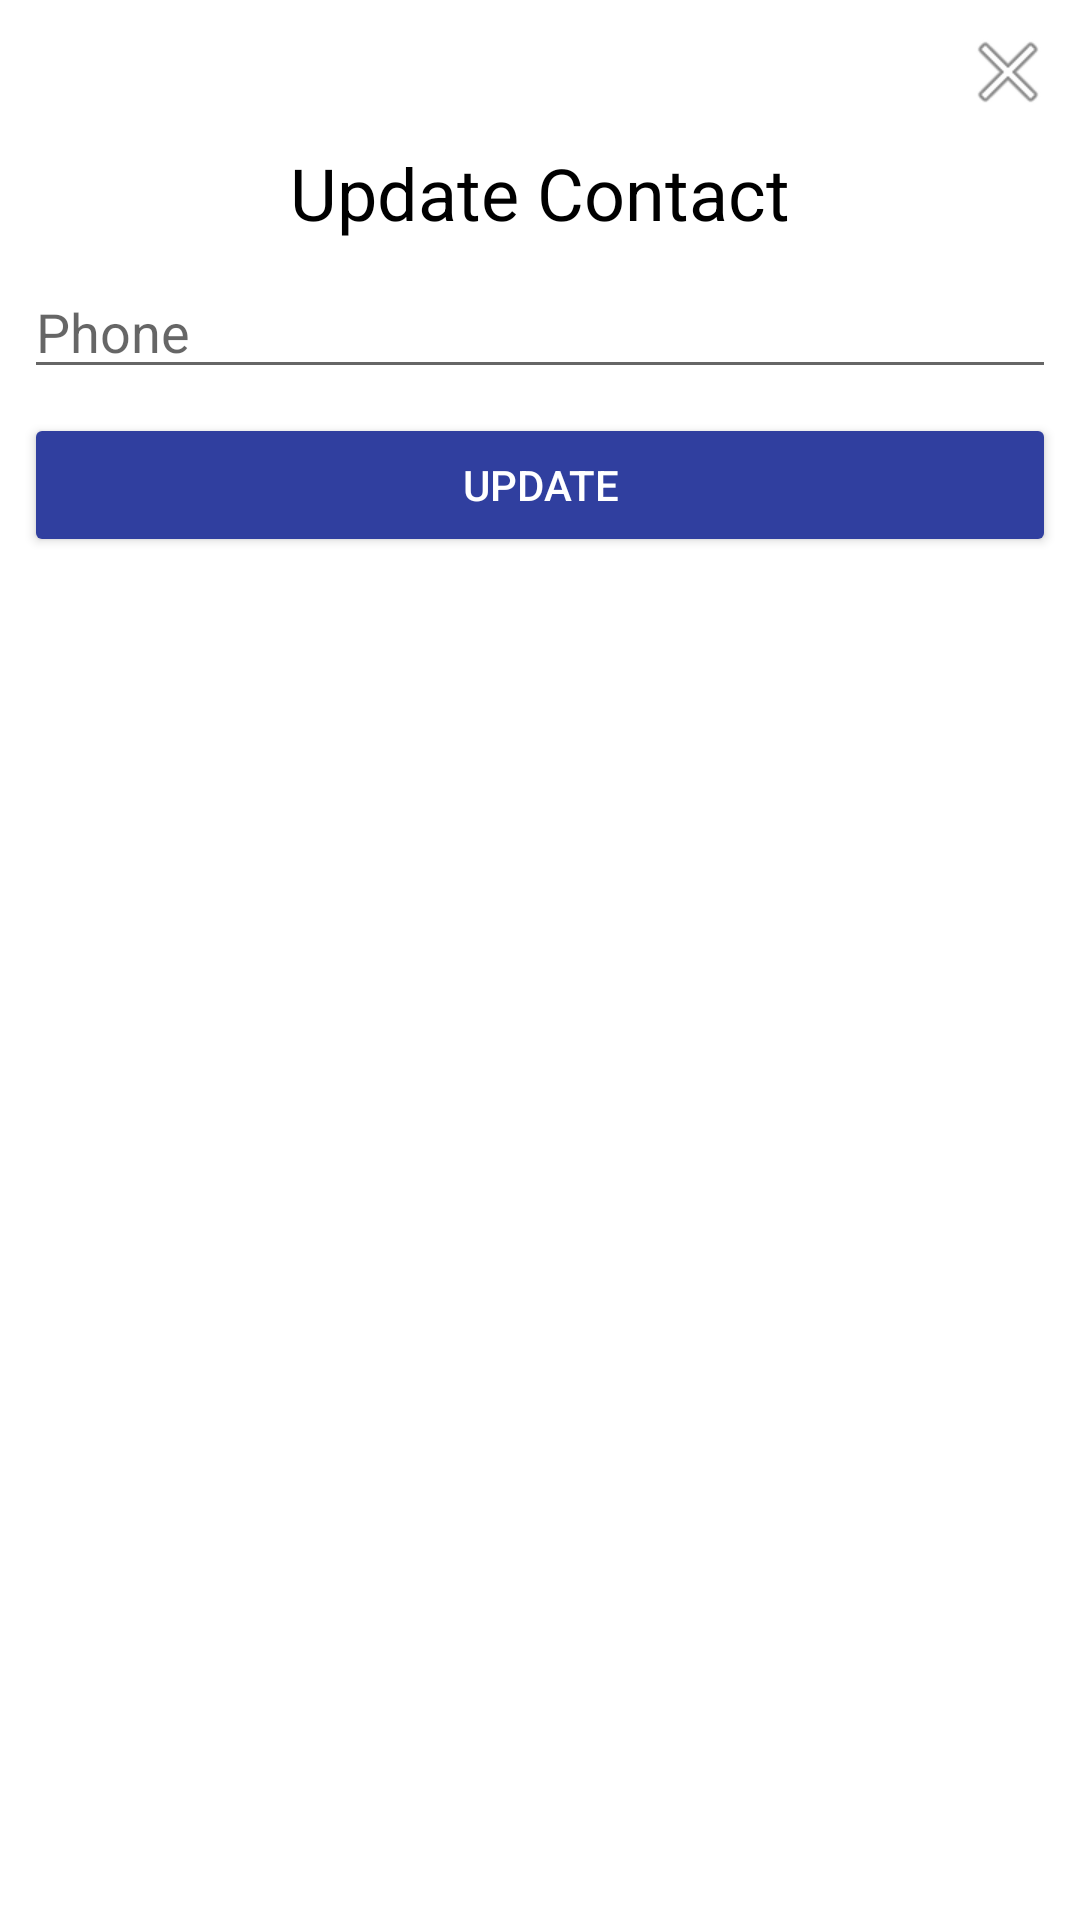

Icons on this 1080x1920 Android screen, each with its box as (x1, y1, x2, y2):
close clear cancel: (978, 42, 1038, 102)
